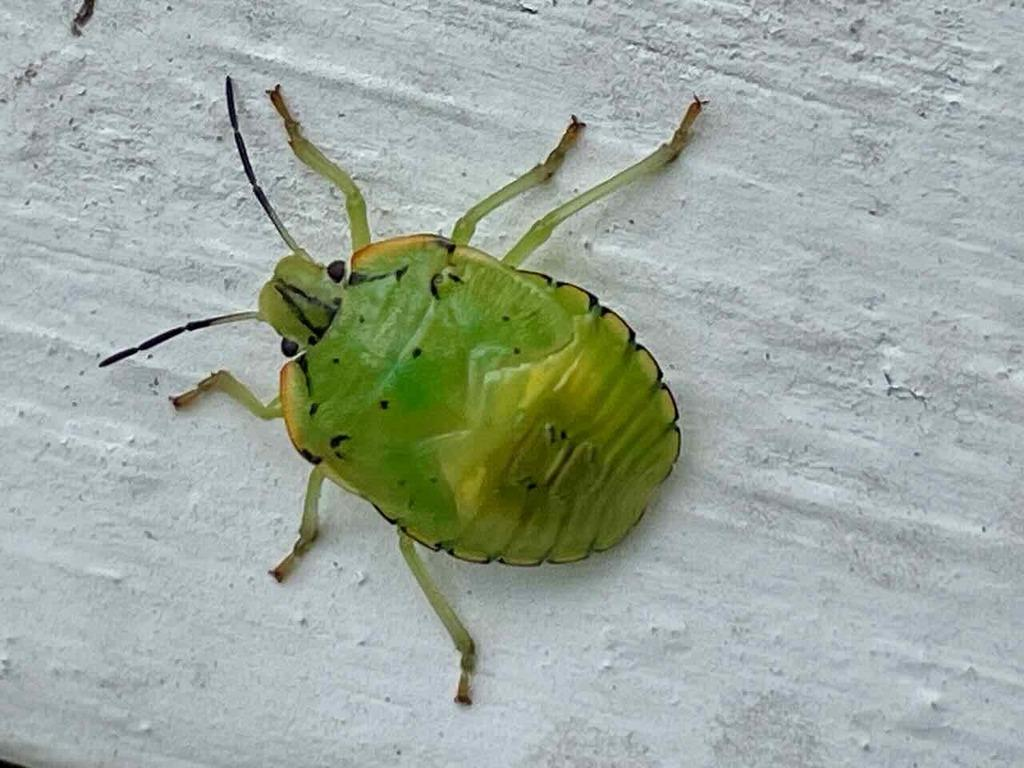stink_bugs: (37, 29, 849, 751)
